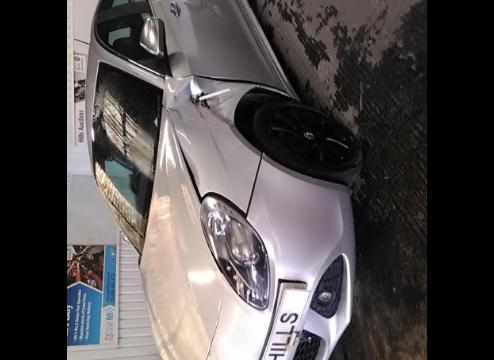Broken part: (163, 72, 289, 221)
Dent: (163, 76, 239, 127), (182, 146, 200, 189), (185, 0, 223, 15)
